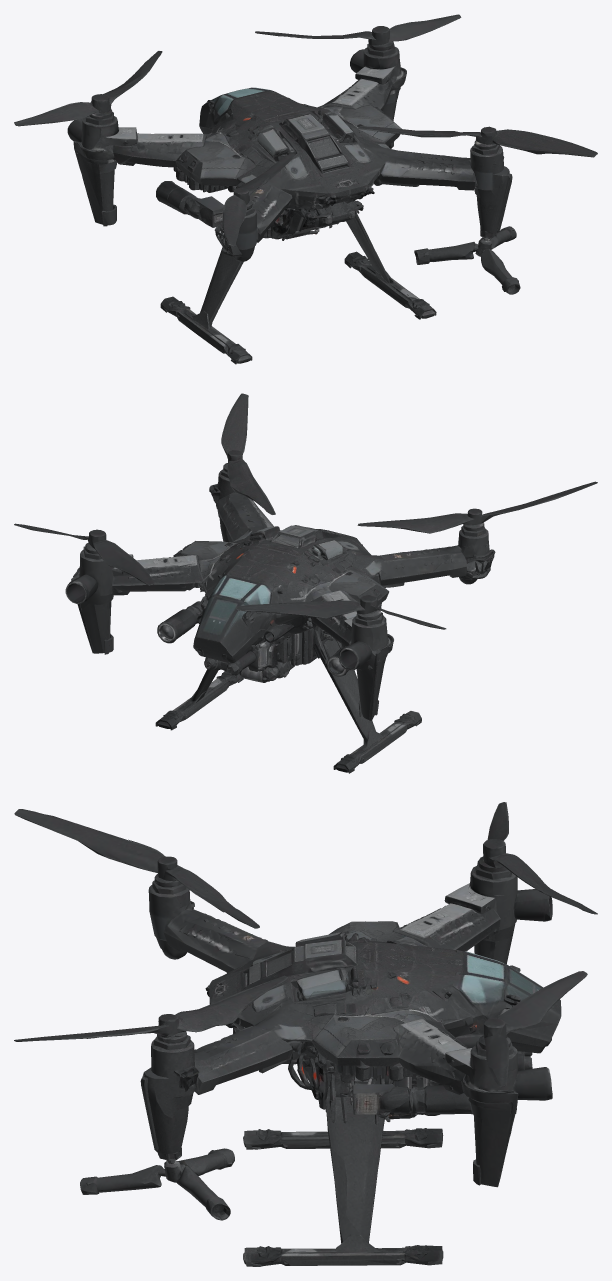
File: drone_viper.glb
3 views of the same model, one above another, from view 1: azimuth 30°, elevation 25°; view 2: azimuth 150°, elevation 25°; view 3: azimuth 270°, elevation 25° (orthographic). The views are drawn at different scales.
Visible parts, largest first — view 1: drone_viper; view 2: drone_viper; view 3: drone_viper.
Boxes of the visible parts, x1,y1,x2,y2 form: drone_viper: [14, 14, 597, 364]; drone_viper: [14, 393, 597, 773]; drone_viper: [14, 802, 597, 1266].
Size of the model in its own units: 1.65 by 0.7461 by 1.44.
Materials: 1 (1 with a texture image).
